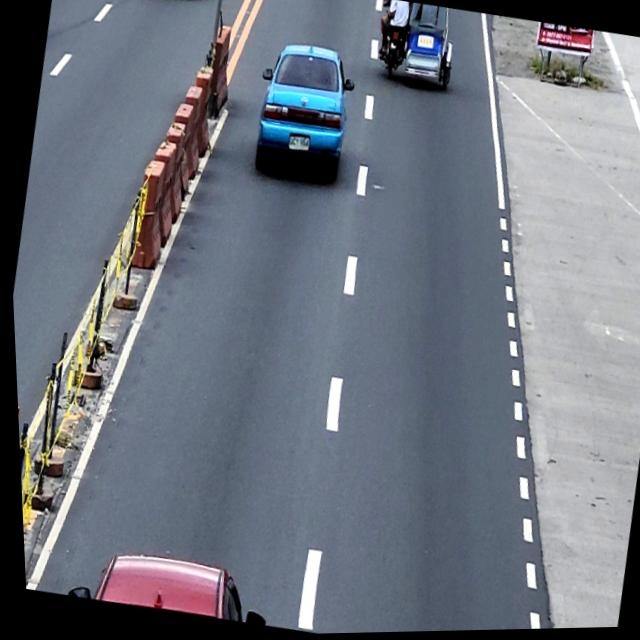Car: (59, 539, 267, 629), (243, 36, 362, 185)
License-Plate: (285, 132, 310, 154)
Tricycle: (374, 0, 461, 93)
